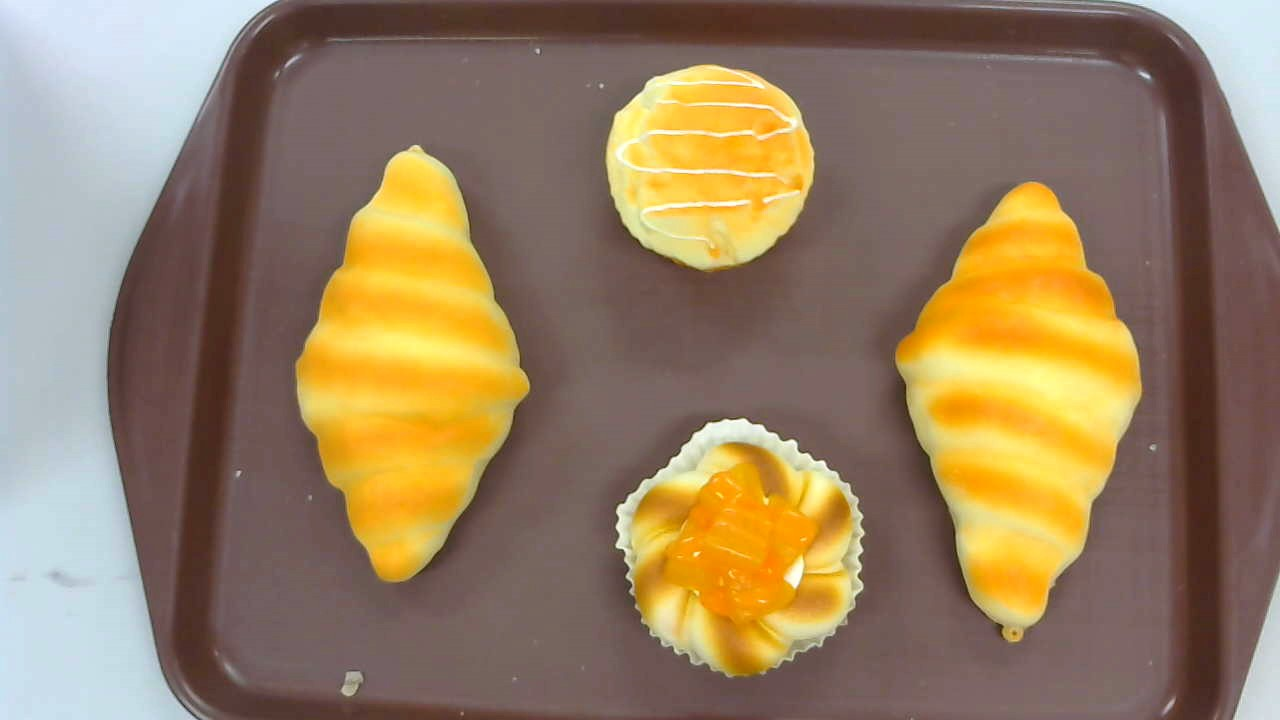croissant: (893, 181, 1143, 646), (295, 146, 534, 583)
cupcake: (606, 63, 816, 272)
mango tart: (616, 419, 866, 678)
